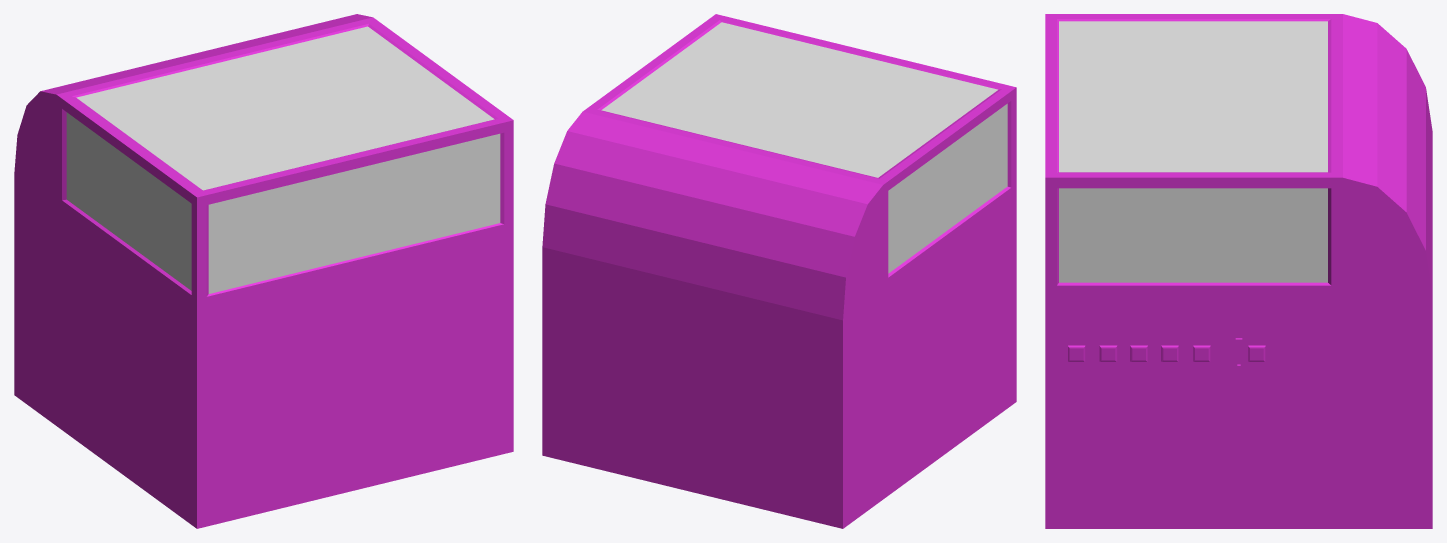
The model's file is plaatslpeler .fbx.
3 renders of one model, left to right at view 1: azimuth 30°, elevation 25°; view 2: azimuth 150°, elevation 25°; view 3: azimuth 270°, elevation 25°, orthographic. The views are drawn at different scales.
Parts seen in each view (by area): view 1: Cube; view 2: Cube; view 3: Cube.
Boxes of the visible parts, bbox=[...] form: Cube: bbox=[14, 14, 513, 528]; Cube: bbox=[542, 14, 1016, 528]; Cube: bbox=[1045, 14, 1432, 528].
Bounding box in the file's own units: 202 × 200 × 200.
